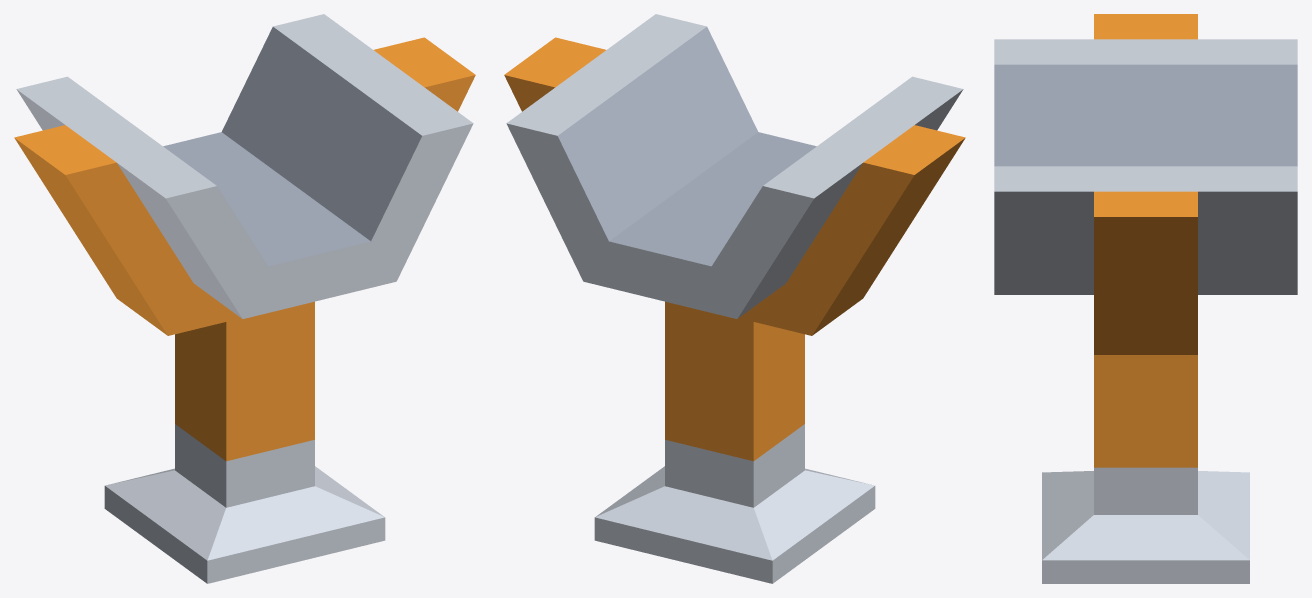
The model's file is trainrunway.fbx.
3 renders of one model, left to right at view 1: azimuth 30°, elevation 25°; view 2: azimuth 150°, elevation 25°; view 3: azimuth 270°, elevation 25°, orthographic.
Visible parts, largest first — view 1: pipe_ringHigh; view 2: pipe_ringHigh; view 3: pipe_ringHigh.
Boxes of the visible parts, x1=… form: pipe_ringHigh: x1=14, y1=14, x2=475, y2=583; pipe_ringHigh: x1=504, y1=14, x2=965, y2=583; pipe_ringHigh: x1=994, y1=14, x2=1297, y2=583.
Size of the model in its own units: 36.37 by 35.43 by 22.94.
